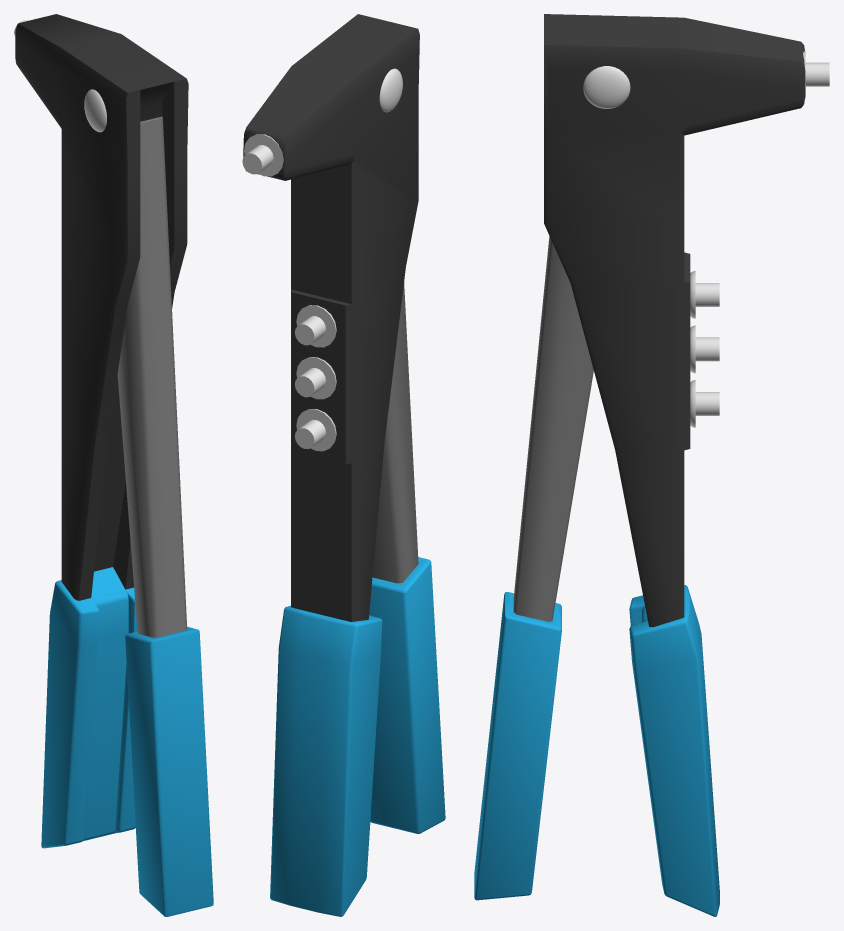
The model's file is Riveter.fbx.
3 renders of one model, left to right at view 1: azimuth 30°, elevation 25°; view 2: azimuth 150°, elevation 25°; view 3: azimuth 270°, elevation 25°, orthographic. The views are drawn at different scales.
Parts seen in each view (by area): view 1: Riveter.Base, Riveter.Handle; view 2: Riveter.Base, Riveter.Handle, Rivet.M, Rivet.T, Rivet.B, Riveter.Rivet; view 3: Riveter.Base, Riveter.Handle, Rivet.M, Rivet.T, Rivet.B.
Boxes of the visible parts, x1,y1,x2,y2 form: Riveter.Base: (15,14,188,848); Riveter.Handle: (84,89,213,916); Riveter.Base: (243,14,419,916); Riveter.Handle: (369,68,445,833); Rivet.M: (294,357,336,399); Rivet.T: (295,305,336,347); Rivet.B: (295,409,336,451); Riveter.Rivet: (242,134,283,176); Riveter.Base: (544,14,805,916); Riveter.Handle: (474,66,630,900); Rivet.M: (690,325,719,373); Rivet.T: (690,271,719,318); Rivet.B: (690,380,719,427).
Bounding box in the file's own units: 0.7778 × 7.97 × 2.95.
